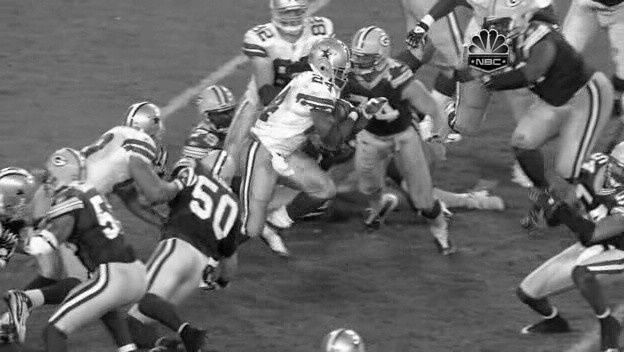person: (317, 41, 351, 85), (316, 41, 350, 85), (318, 41, 352, 85), (317, 40, 351, 84), (317, 42, 351, 86)
target_negative: (364, 310, 515, 347), (565, 90, 613, 204), (213, 141, 260, 228), (98, 335, 609, 338), (561, 193, 568, 312), (398, 85, 404, 201)
